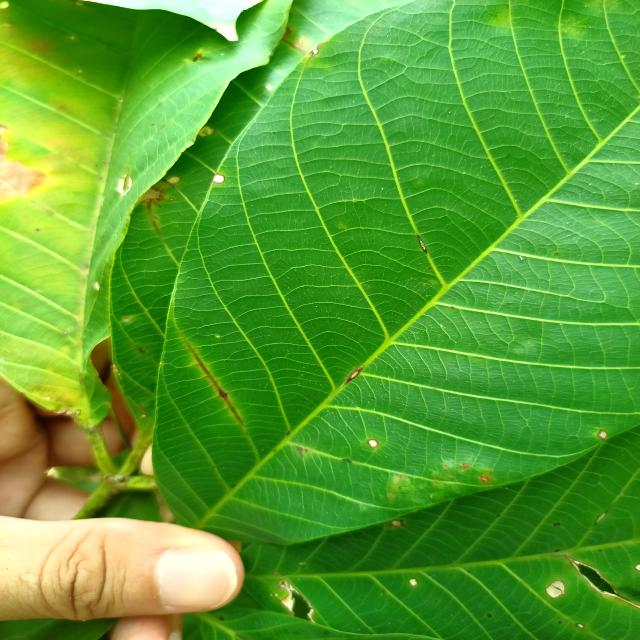Colletotrichum: (213, 174, 226, 184), (597, 430, 608, 440), (368, 438, 378, 448), (408, 578, 417, 586), (554, 522, 560, 527)
Corynespora: (183, 338, 244, 426), (146, 201, 161, 236)
Leaf-Blight: (0, 125, 45, 204), (278, 579, 297, 611), (138, 186, 165, 205), (546, 580, 565, 598), (635, 564, 640, 570)
